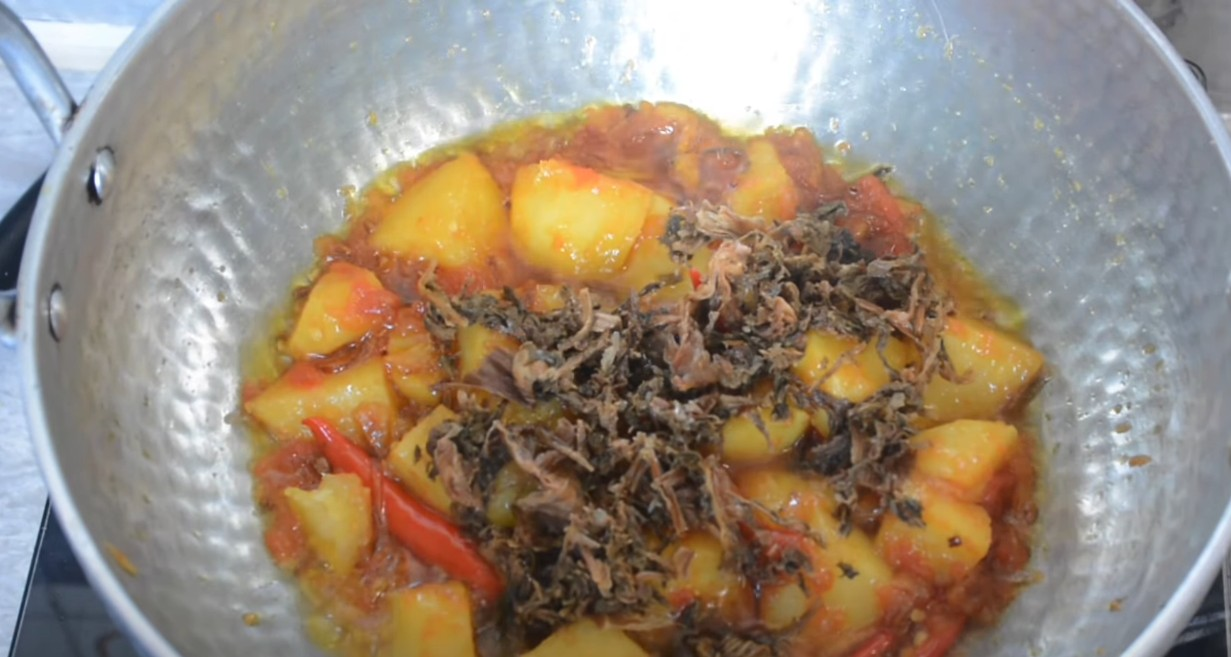gundruk: (244, 129, 1034, 650)
